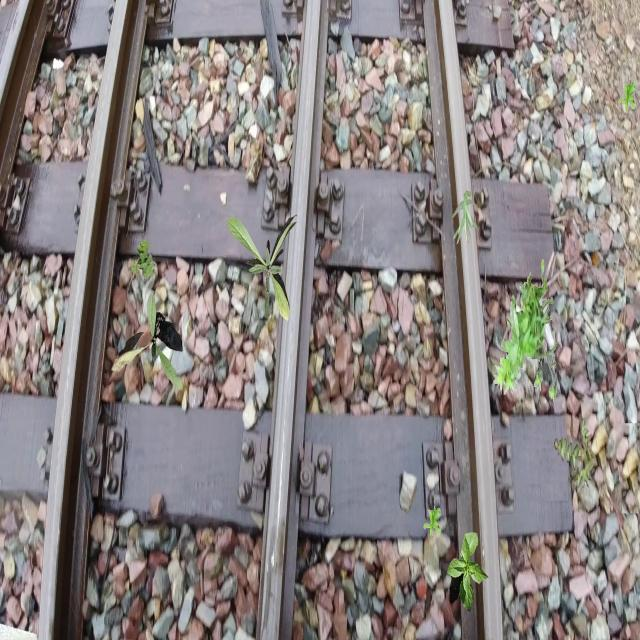Plant: (493, 259, 558, 402), (227, 215, 298, 323), (111, 291, 182, 391), (447, 532, 489, 612), (554, 417, 596, 488), (451, 190, 478, 246), (132, 240, 156, 281), (618, 80, 636, 112), (423, 506, 440, 538)
